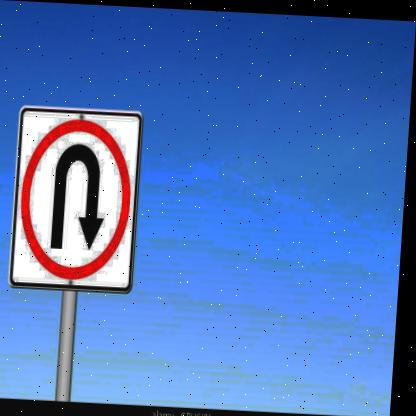U-turn: (12, 103, 145, 299)
